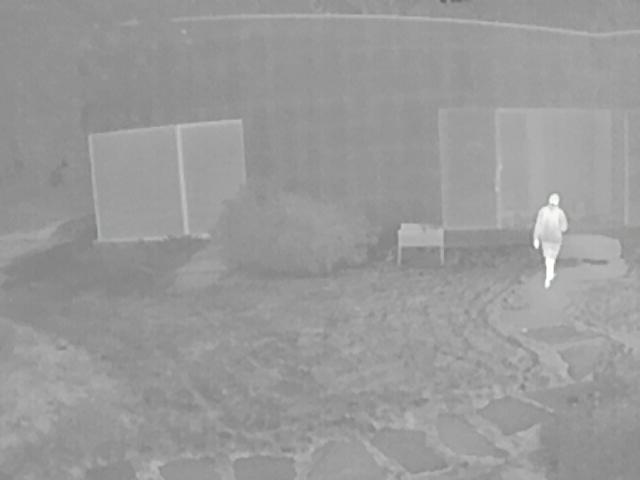person: (532, 193, 568, 289)
